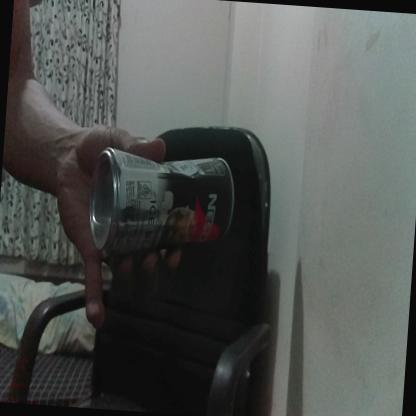alumunium_can: (90, 142, 238, 246)
